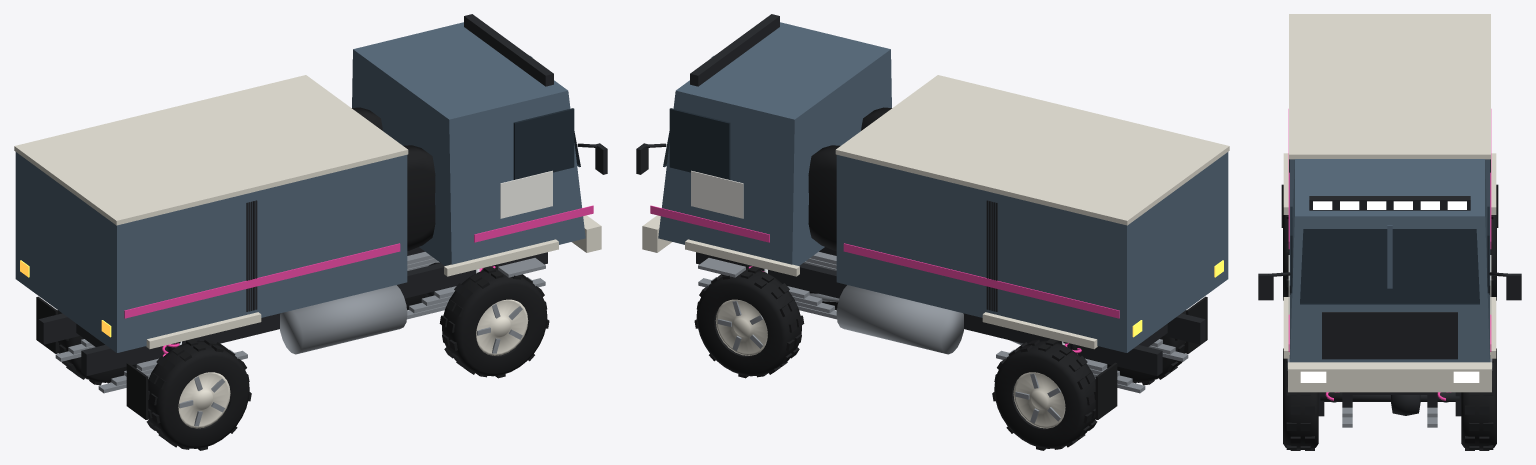
The model's file is truck-heavy.glb.
3 views of the same model, side by side, from view 1: azimuth 30°, elevation 25°; view 2: azimuth 150°, elevation 25°; view 3: azimuth 270°, elevation 25° (orthographic).
Visible parts, largest first — view 1: BodyShell, Wheel_RR, Wheel_FR, Axle_F, Axle_R, Wheel_RL; view 2: BodyShell, Wheel_RL, Wheel_FL, Axle_F, Axle_R, Wheel_RR; view 3: BodyShell, Wheel_FL, Wheel_FR, Axle_F, Wheel_RL, Wheel_RR.
Boxes of the visible parts, x1,y1,x2,y2 form: BodyShell: (14, 14, 607, 419); Wheel_RR: (146, 338, 251, 450); Wheel_FR: (439, 266, 549, 378); Axle_F: (407, 252, 545, 319); Axle_R: (55, 339, 247, 393); Wheel_RL: (57, 310, 126, 385); BodyShell: (636, 14, 1229, 419); Wheel_RL: (992, 338, 1097, 450); Wheel_FL: (694, 266, 804, 378); Axle_F: (698, 252, 838, 319); Axle_R: (996, 339, 1188, 393); Wheel_RR: (1107, 310, 1186, 385); BodyShell: (1258, 14, 1521, 407); Wheel_FL: (1461, 348, 1496, 450); Wheel_FR: (1283, 348, 1318, 450); Axle_F: (1320, 392, 1459, 427); Wheel_RL: (1489, 205, 1496, 300); Wheel_RR: (1283, 205, 1290, 300).
Size of the model in its own units: 6.56 by 3.59 by 3.1.
